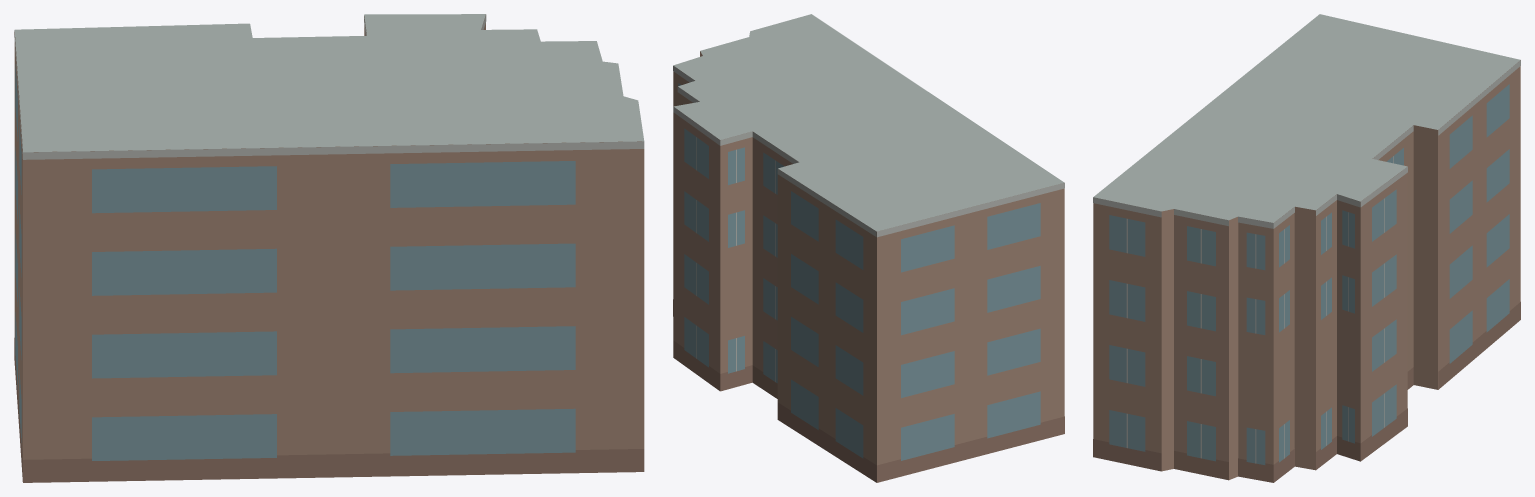
Rendered from survey-upis-32980026.glb.
The picture shows the model from 3 angles, left to right: view 1: azimuth 30°, elevation 25°; view 2: azimuth 150°, elevation 25°; view 3: azimuth 270°, elevation 25°; orthographic projection. The views are drawn at different scales.
Parts seen in each view (by area): view 1: survey-upis-32980026.tmp; view 2: survey-upis-32980026.tmp; view 3: survey-upis-32980026.tmp.
Boxes of the visible parts, x1,y1,x2,y2 form: survey-upis-32980026.tmp: (14,14,644,482); survey-upis-32980026.tmp: (673,14,1064,482); survey-upis-32980026.tmp: (1093,14,1520,482).
Bounding box in the file's own units: 18.37 × 10.65 × 15.89.
